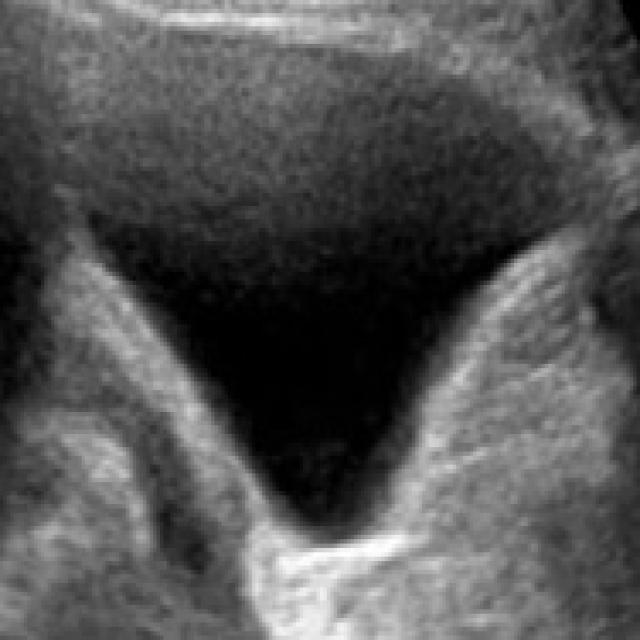bladder: (54, 4, 613, 604)
